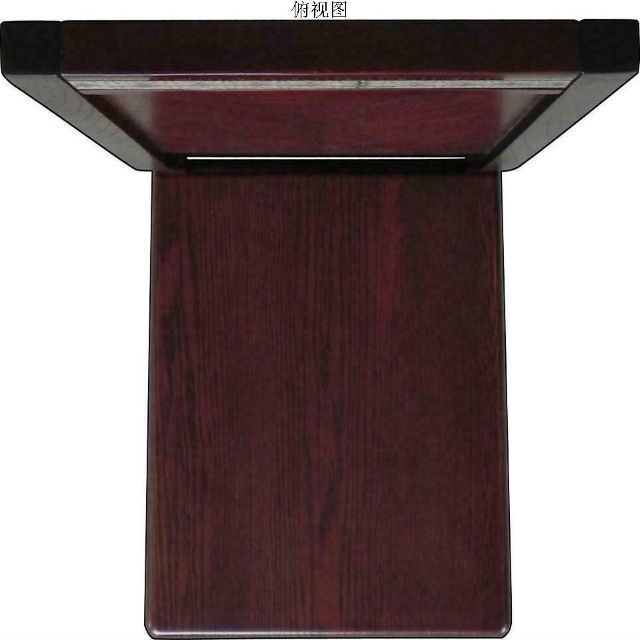obstacle: (2, 20, 637, 637)
